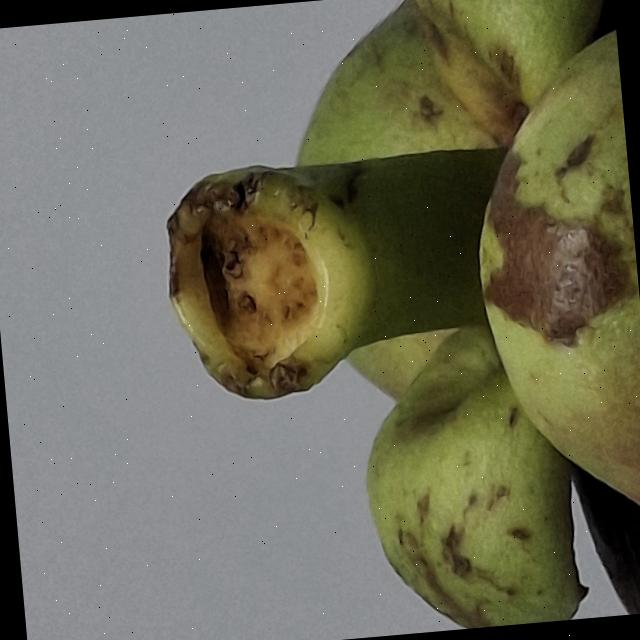mangosteen: (78, 0, 640, 640)
